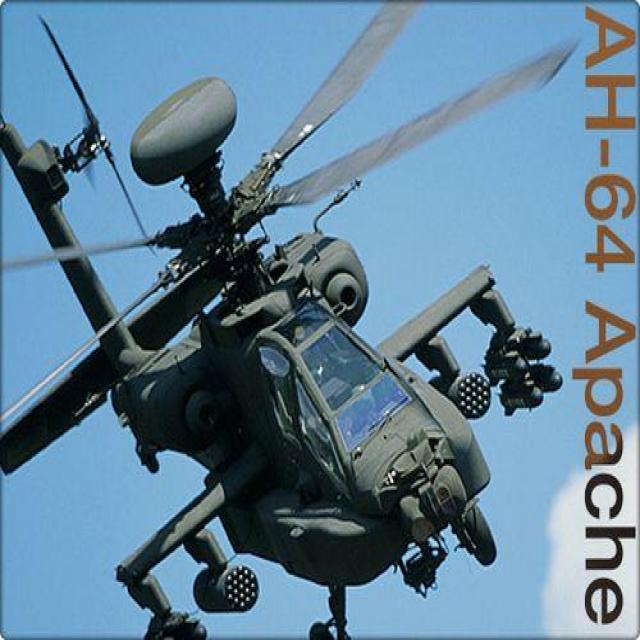MIL_HELO: (5, 8, 566, 640)
